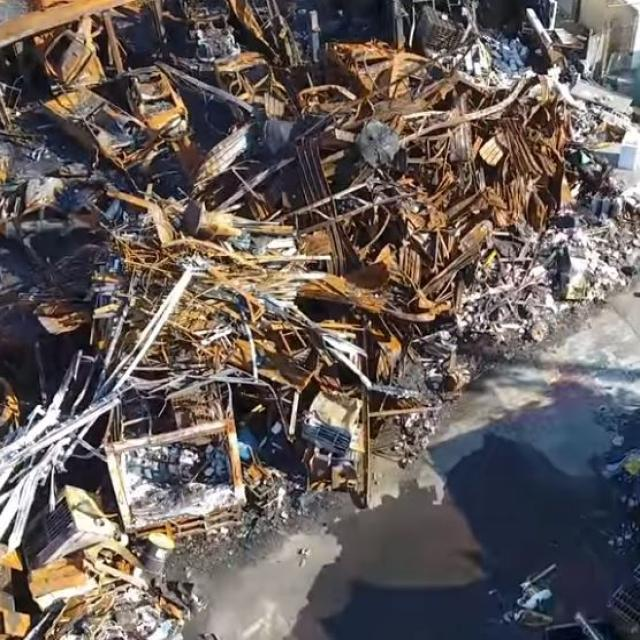collapsed_building: (0, 2, 600, 532)
